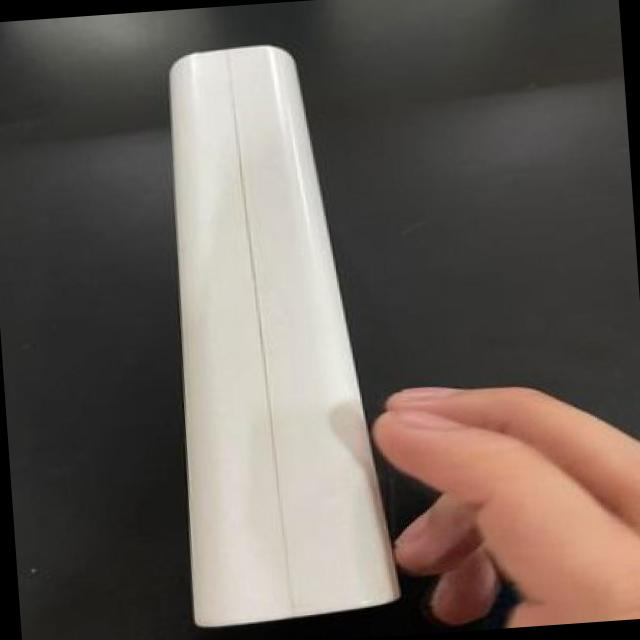portable-charger: (83, 32, 420, 640)
